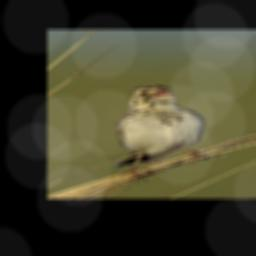Sparrow: (115, 83, 209, 183)
